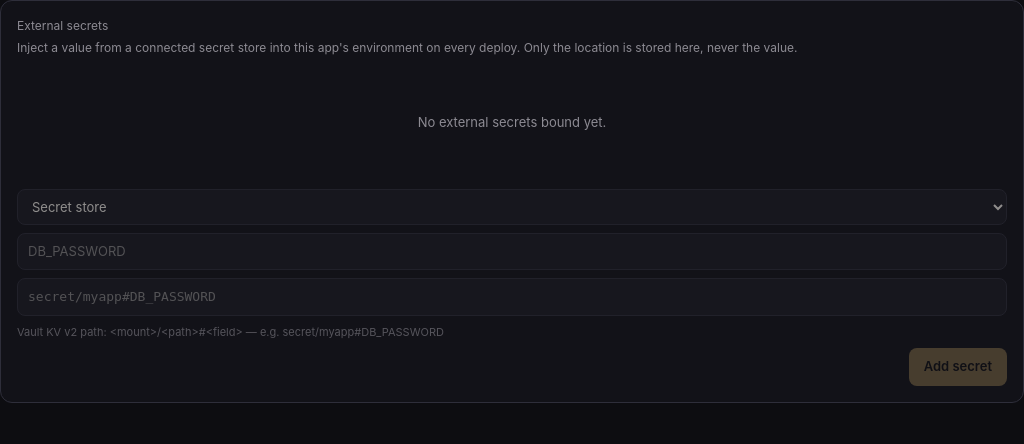
AppSecretRefsCard › validates env var and locator client-side (Add stays disabled)
Expected: the text "No external secrets bound yet." is shown, [418, 114, 606, 130]
Select "p1" in the dropdown at (512,206), box [17, 188, 1007, 224]
Type "1BAD" into the field named "Environment variable".
click(512, 251); type("1BAD")  # box [17, 232, 1007, 270]
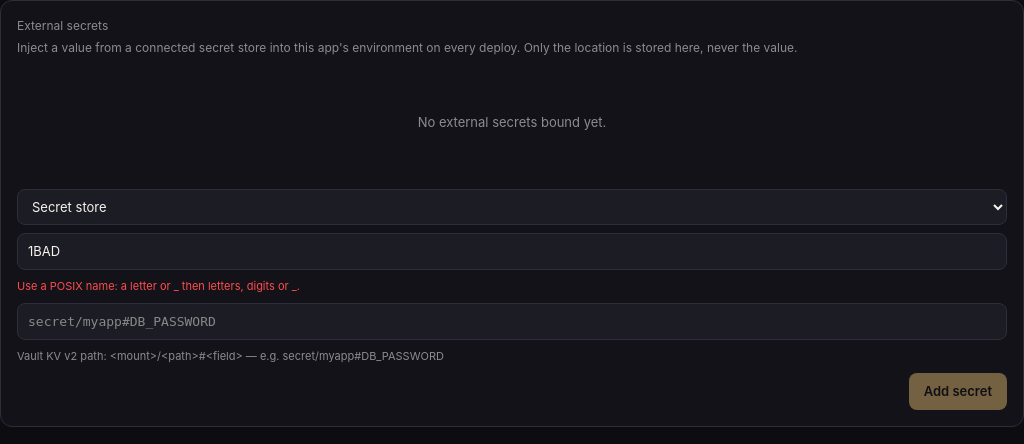
Type "no-hash" into the field named "Location in the store".
click(512, 321); type("no-hash")  # box [17, 302, 1007, 340]
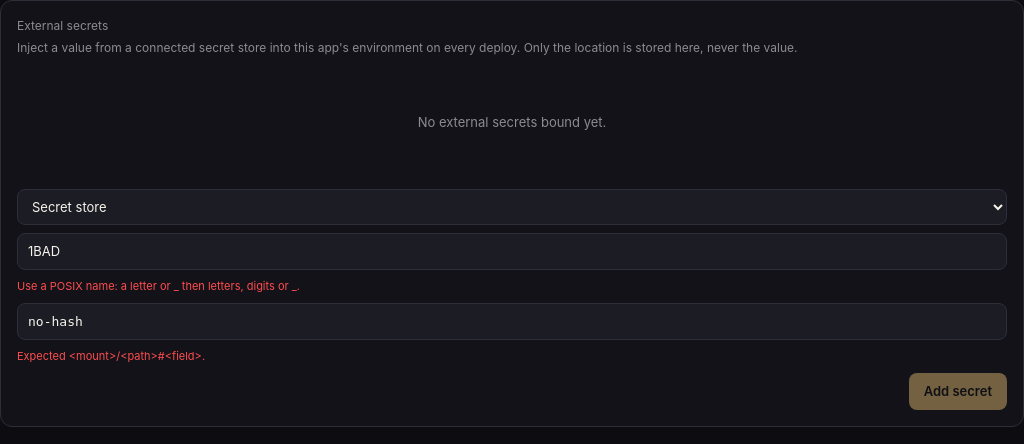
Expected: the button "Add secret" is disabled, [909, 372, 1007, 410]
Expected: the text "Use a POSIX name: a letter or _ then letters, digits or _." is shown, [17, 279, 300, 293]
Expected: the text "Expected <mount>/<path>#<field>." is shown, [17, 349, 205, 363]
